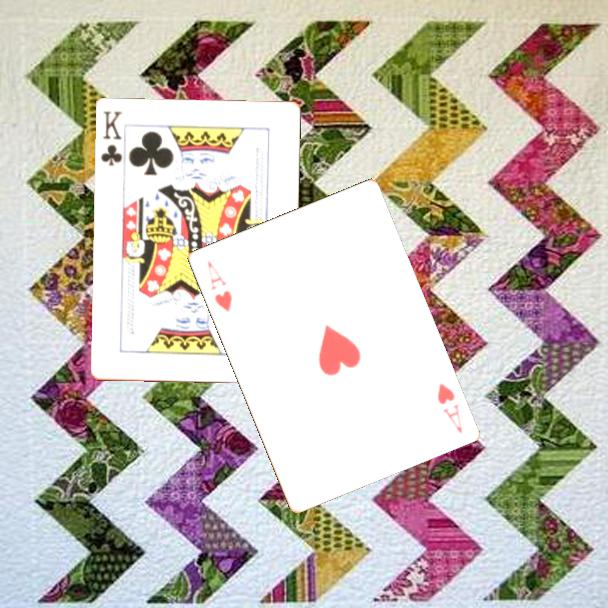c13: (98, 108, 125, 169)
h01: (203, 257, 235, 314), (433, 379, 465, 436)
